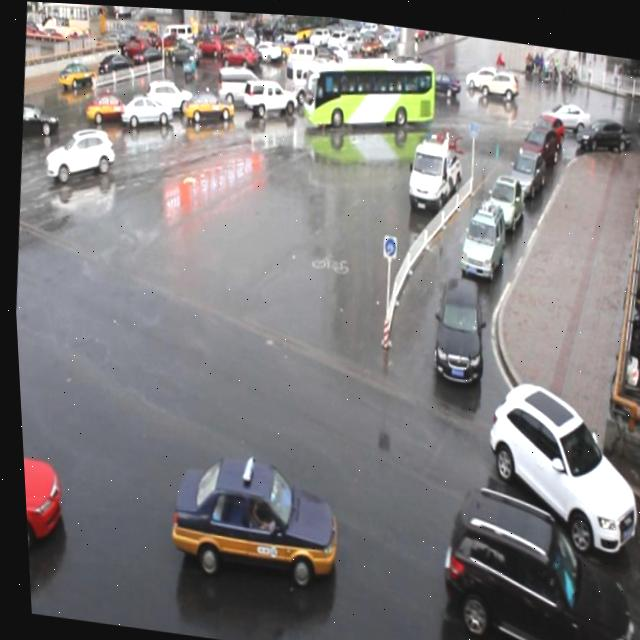bus: (399, 126, 464, 214)
car: (426, 474, 636, 640), (471, 368, 640, 551), (159, 444, 338, 586), (424, 268, 486, 380), (18, 444, 63, 565), (41, 120, 114, 185), (453, 192, 505, 271), (237, 69, 299, 117), (477, 166, 523, 228), (178, 79, 236, 127), (116, 86, 175, 130), (142, 70, 194, 116), (505, 134, 547, 190), (519, 116, 561, 169), (18, 96, 59, 143), (82, 86, 131, 123), (312, 71, 357, 107), (531, 104, 566, 149)
truck: (278, 50, 333, 101), (210, 57, 264, 108)
van: (300, 48, 436, 128)
